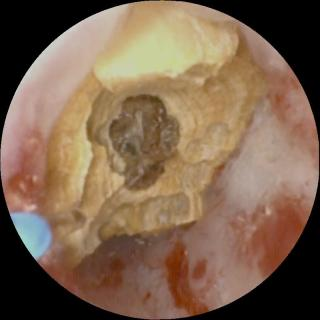fiber: (13, 214, 52, 256)
stone: (45, 3, 262, 269)
tissue: (50, 28, 311, 315), (6, 10, 121, 205)
